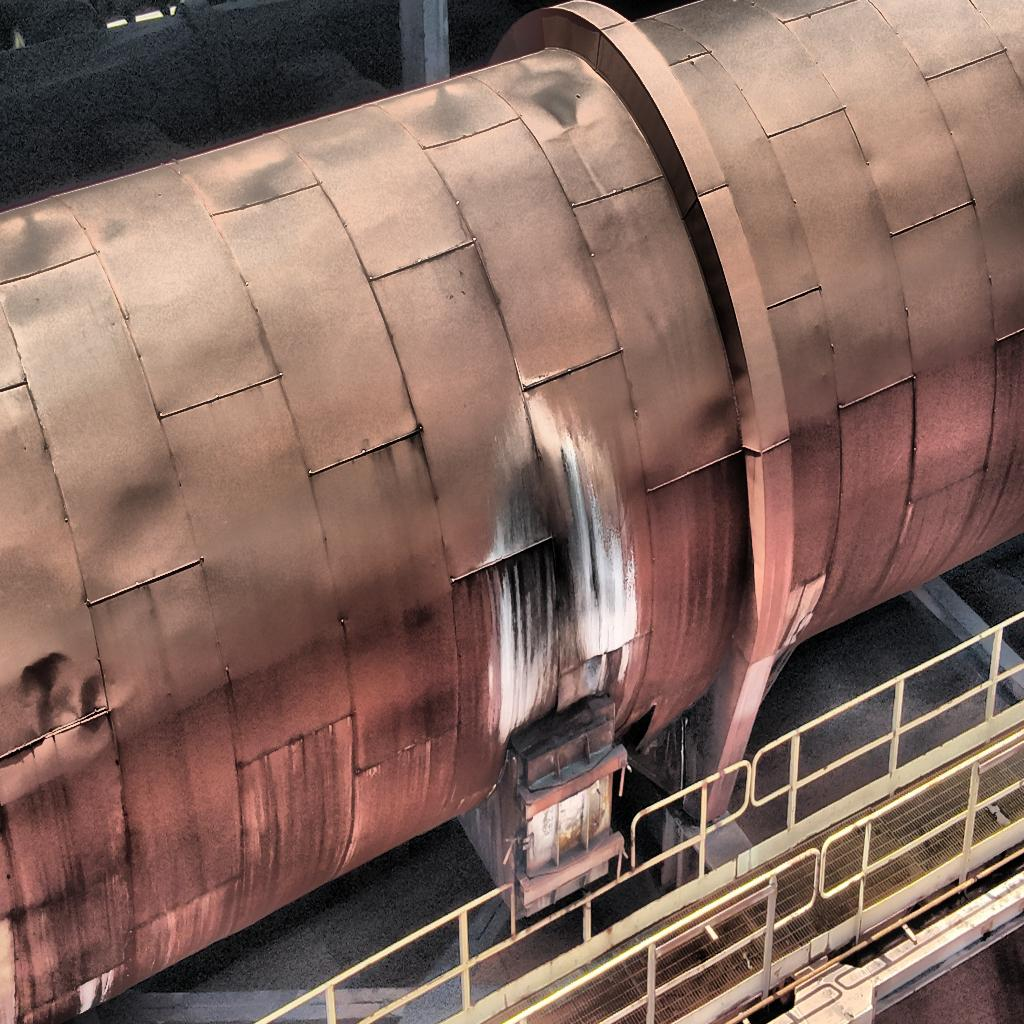Failures: (528, 454, 678, 809)
